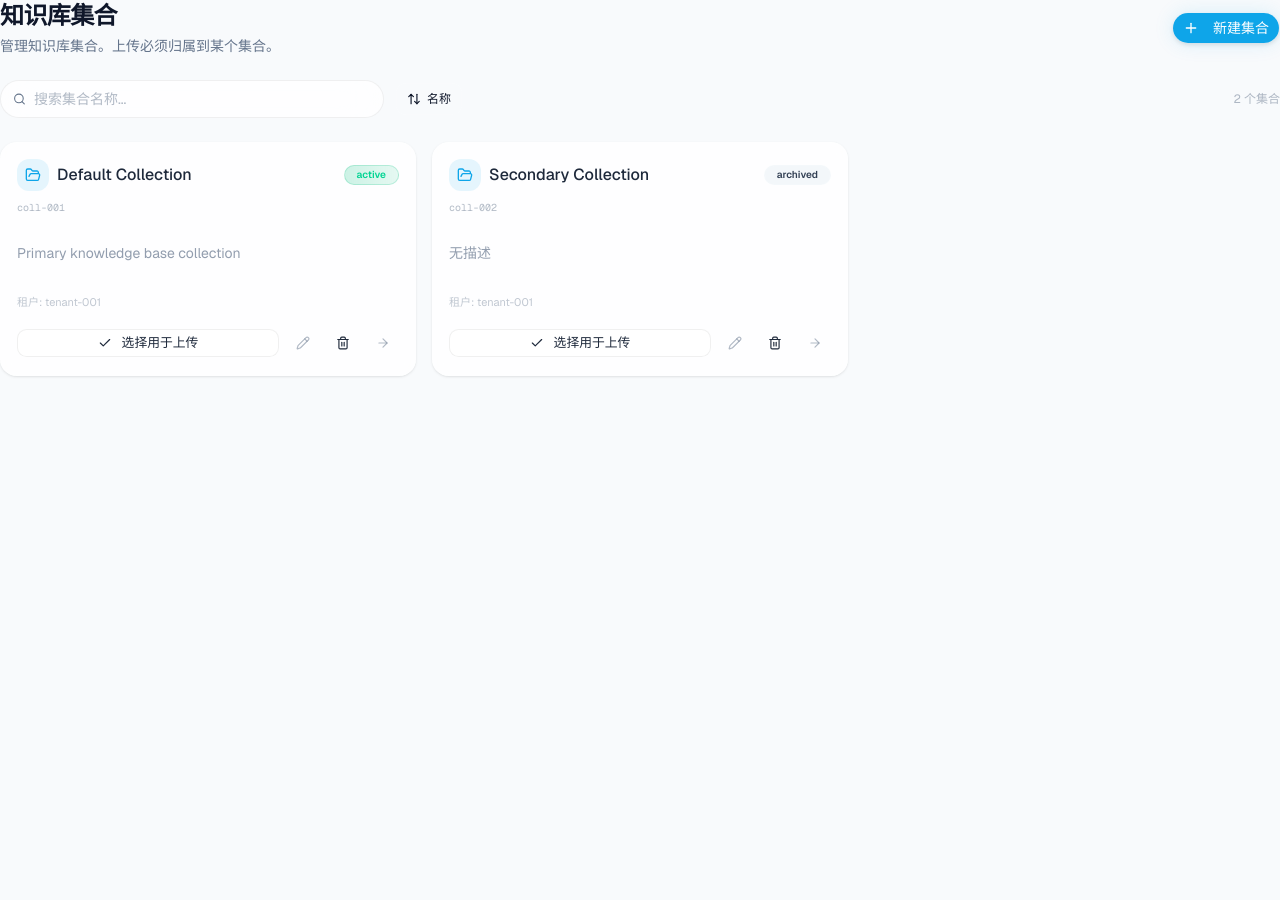
Test case: CollectionsPage › validates required fields and disables submit until they are filled
The image size is (1280, 900).
Click the button "新建集合".
click(1226, 28)  # box [1172, 12, 1279, 44]
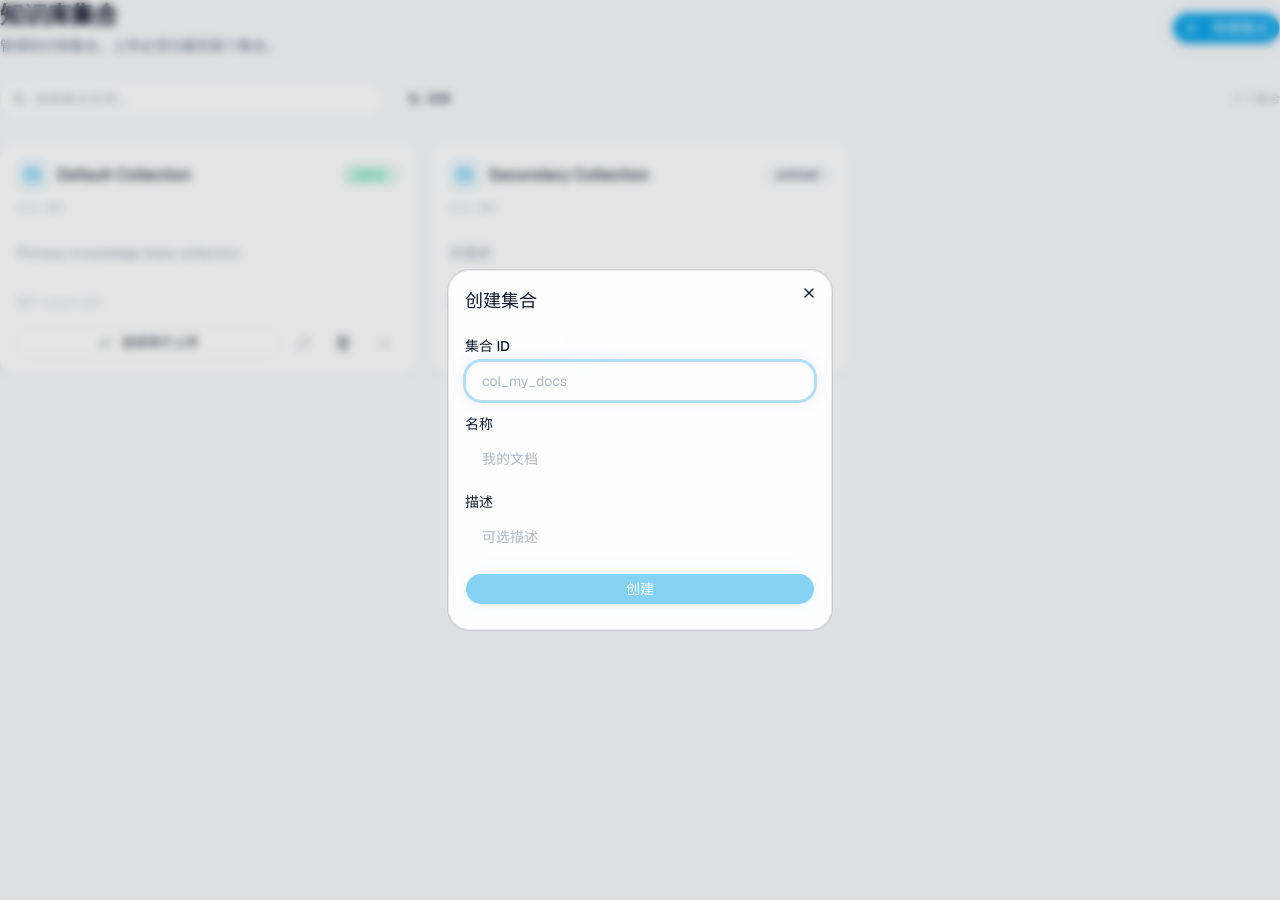
Check: the button "创建" is disabled, box [465, 573, 815, 605]
Type "coll-new" into the field labelled "集合 ID".
click(640, 381); type("coll-new")  # box [465, 361, 815, 401]
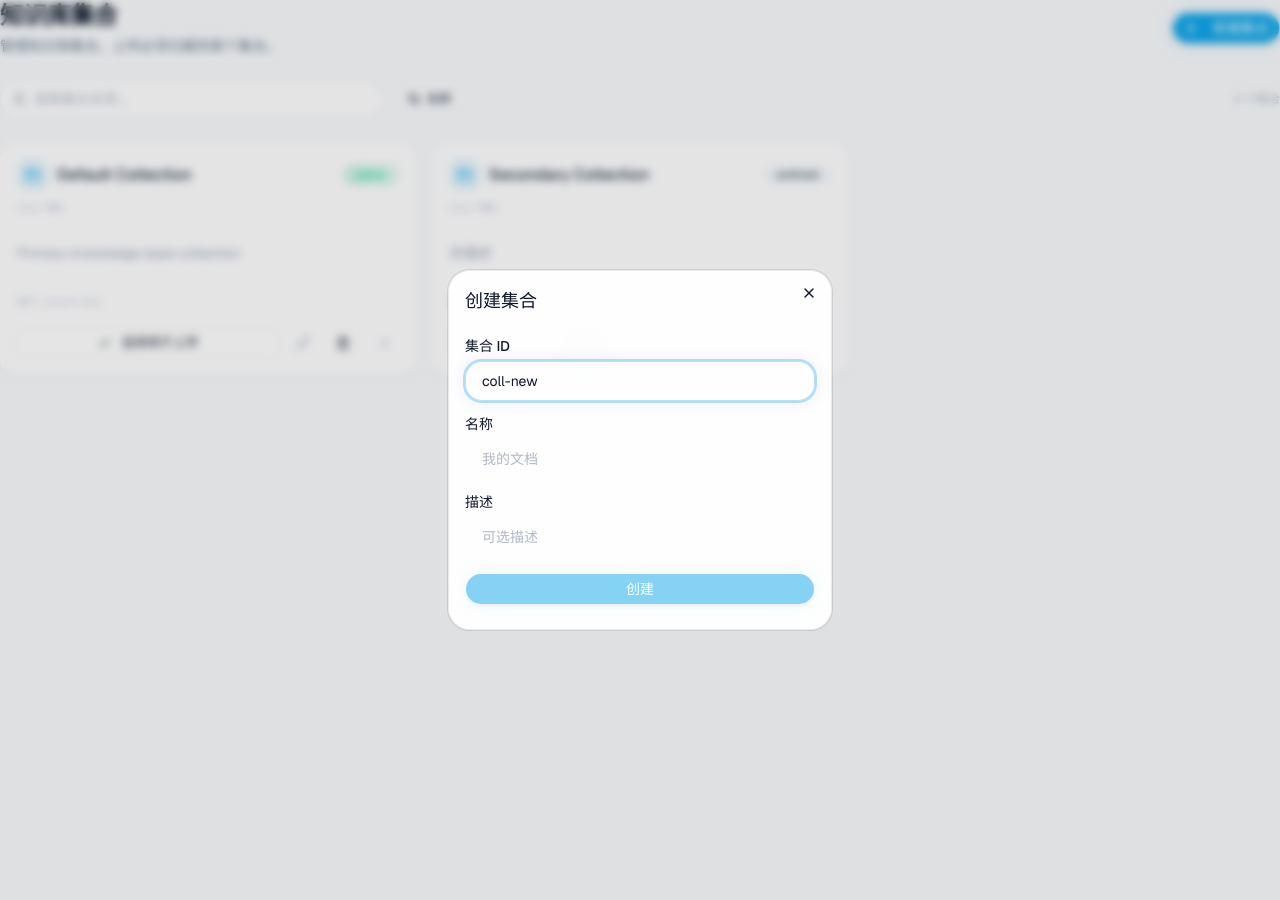
Check: the button "创建" is disabled, box [465, 573, 815, 605]
Type "New Collection" into the field labelled "名称".
click(640, 459); type("New Collection")  # box [465, 439, 815, 479]
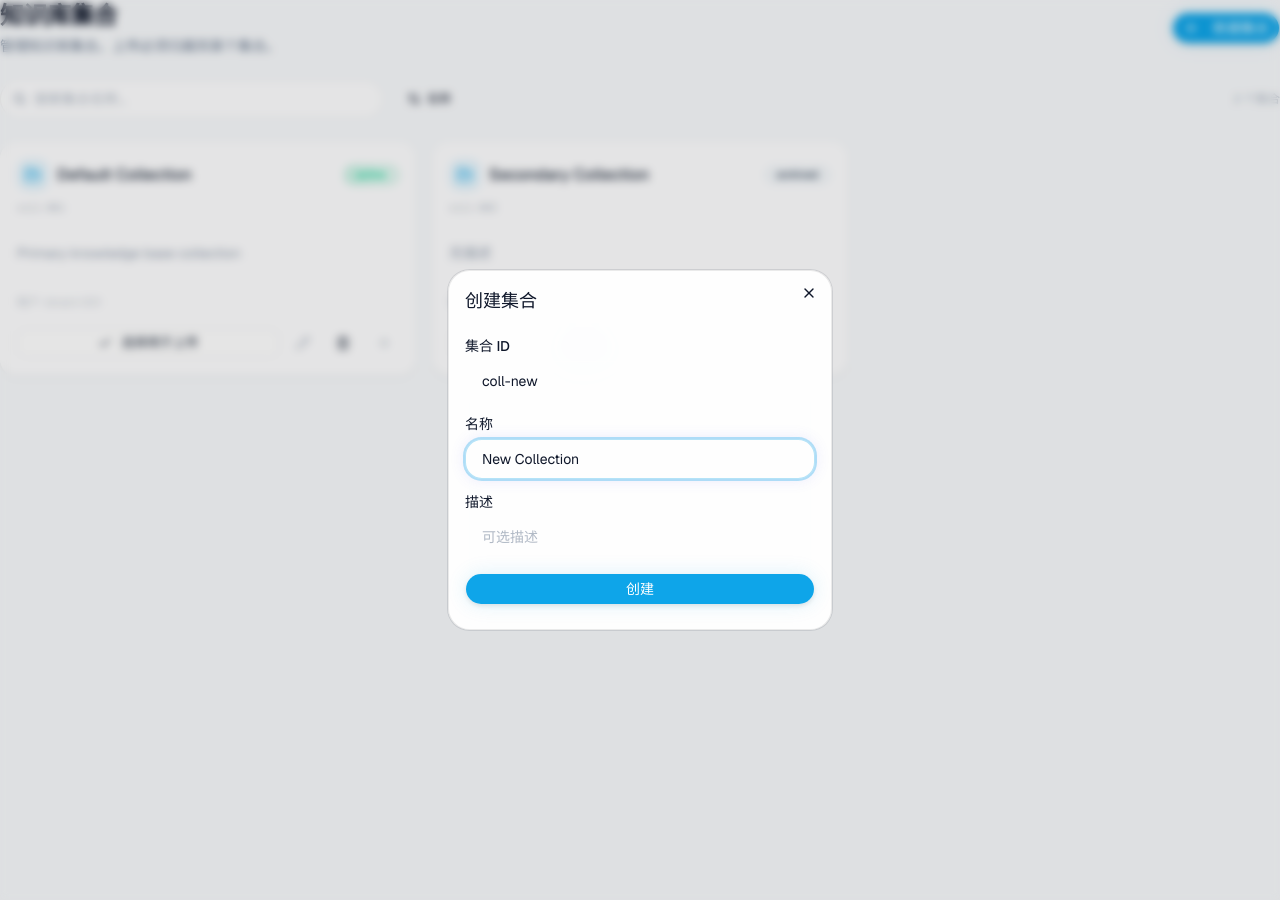
Check: the button "创建" is enabled, box [465, 573, 815, 605]
